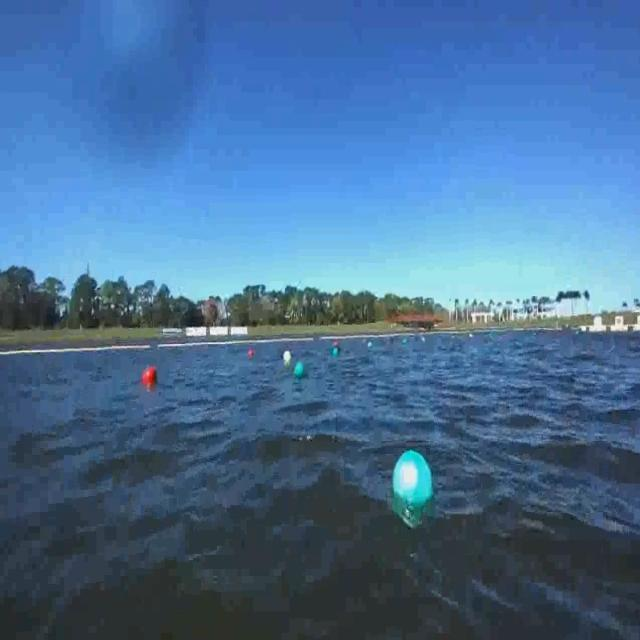green-buoy: (390, 449, 434, 527), (294, 360, 304, 377)
red-column-buoy: (144, 367, 157, 388)
